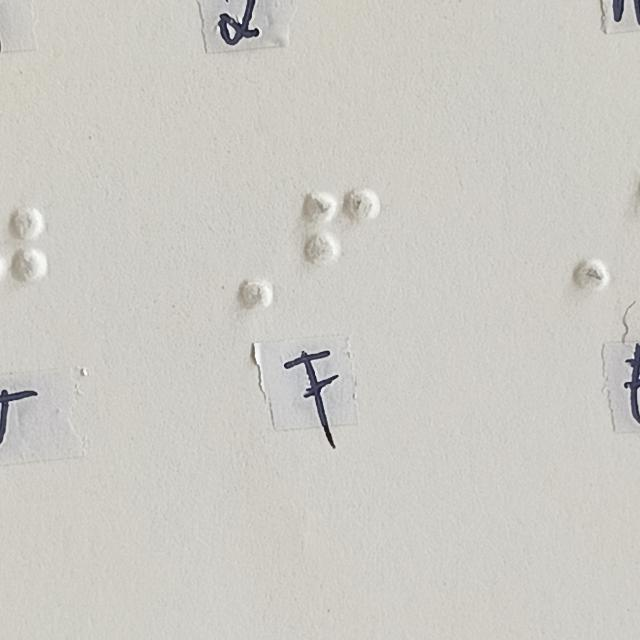capital_sign: (196, 191, 275, 314)
letter_F: (302, 189, 381, 312)
